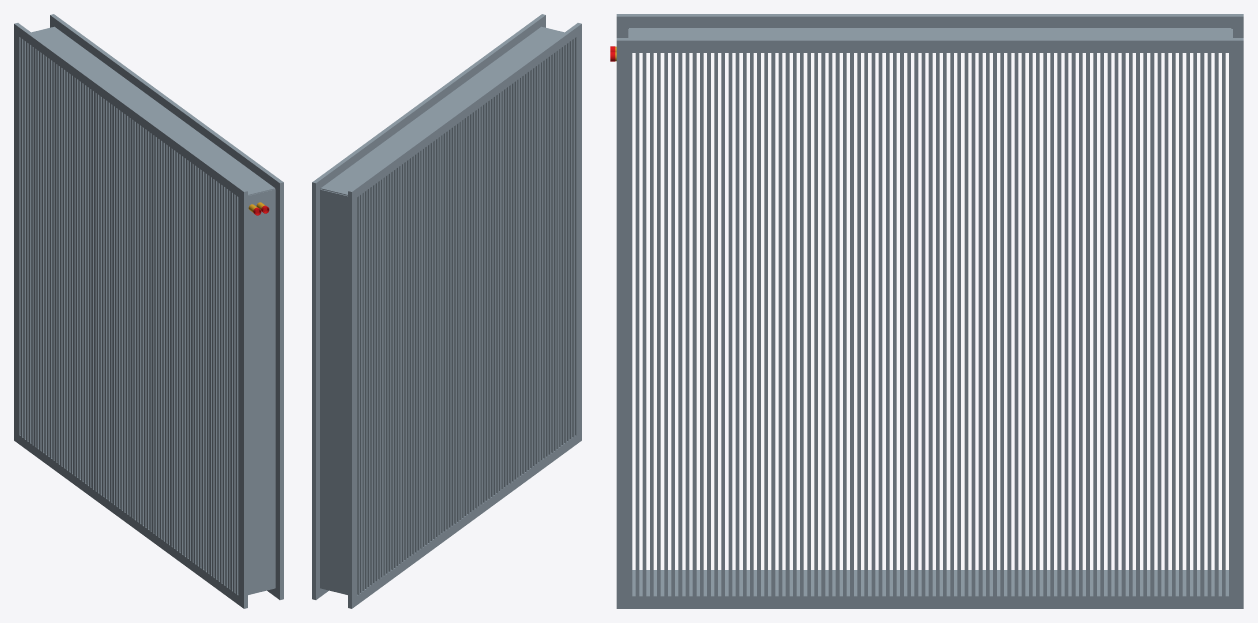
Rendered from AirFlowSensor.glb.
3 renders of one model, left to right at view 1: azimuth 30°, elevation 25°; view 2: azimuth 150°, elevation 25°; view 3: azimuth 270°, elevation 25°, orthographic. The views are drawn at different scales.
Parts seen in each view (by area): view 1: child.004, child.003; view 2: child.004, child.003; view 3: child.004, child.003.
Part boxes in pixels (left/top/right/bottom): child.004: left=18, top=36, right=275, bottom=595; child.003: left=14, top=14, right=283, bottom=608; child.004: left=320, top=36, right=577, bottom=595; child.003: left=312, top=14, right=581, bottom=608; child.004: left=628, top=29, right=1232, bottom=596; child.003: left=616, top=14, right=1243, bottom=608.
Size of the model in its own units: 100 by 1000 by 1010.
